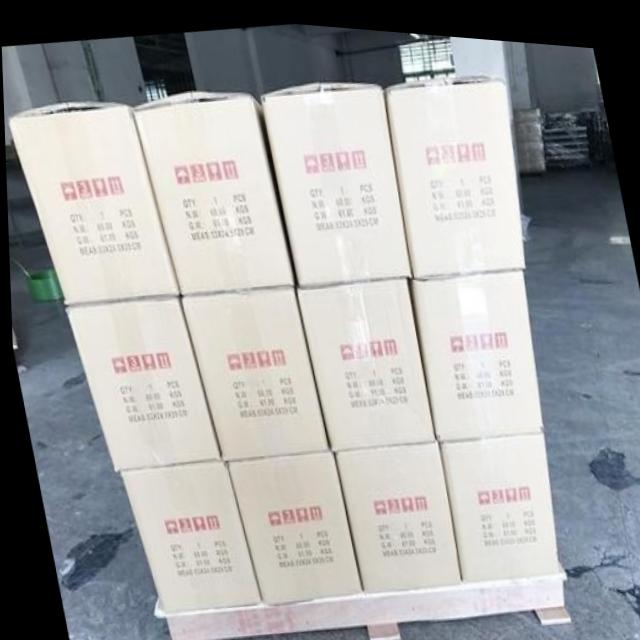box: (5, 98, 178, 306), (132, 86, 295, 293), (259, 76, 410, 282), (383, 65, 525, 273), (63, 292, 219, 475), (179, 283, 328, 457), (293, 272, 434, 445), (409, 261, 542, 435), (118, 457, 257, 614), (223, 445, 359, 599), (331, 437, 458, 586), (437, 424, 555, 577)
